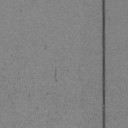surface scratch: (102, 0, 106, 128)
